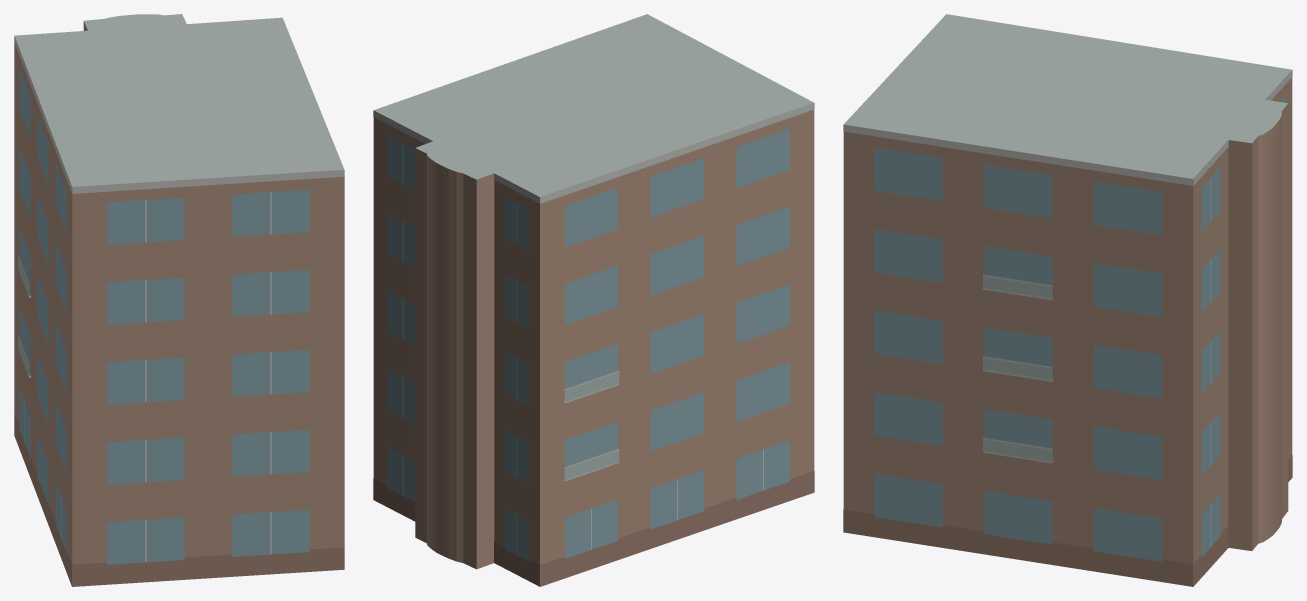
File: survey-upis-32942553.glb
The picture shows the model from 3 angles, left to right: view 1: azimuth 30°, elevation 25°; view 2: azimuth 150°, elevation 25°; view 3: azimuth 270°, elevation 25°; orthographic projection. The views are drawn at different scales.
Visible parts, largest first — view 1: survey-upis-32942553.tmp; view 2: survey-upis-32942553.tmp; view 3: survey-upis-32942553.tmp.
Part boxes in pixels (box(x1,y1,x2,y2)): survey-upis-32942553.tmp: box(14, 14, 344, 586); survey-upis-32942553.tmp: box(373, 14, 814, 586); survey-upis-32942553.tmp: box(843, 14, 1292, 586).
Size of the model in its own units: 12.33 by 14.2 by 14.18.
